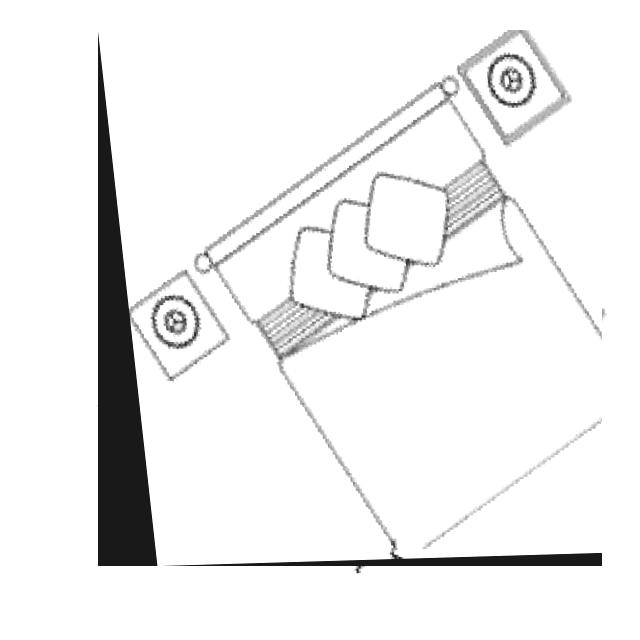bed: (98, 30, 602, 566)
